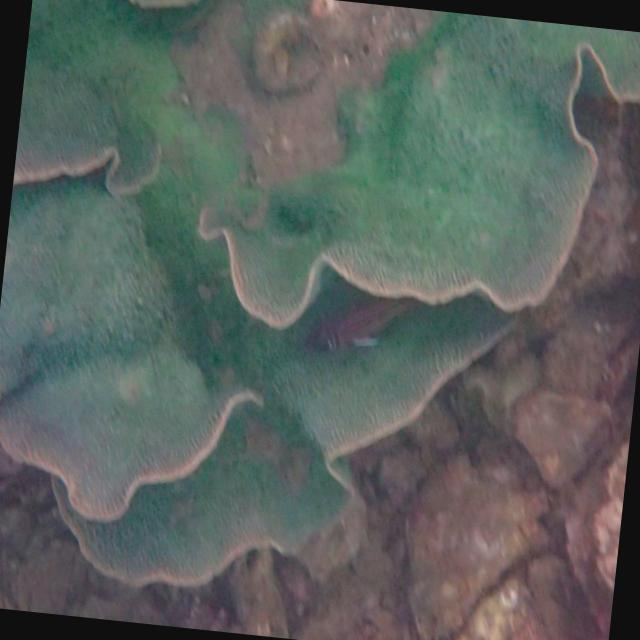Asker Baligi: (294, 276, 420, 373)
